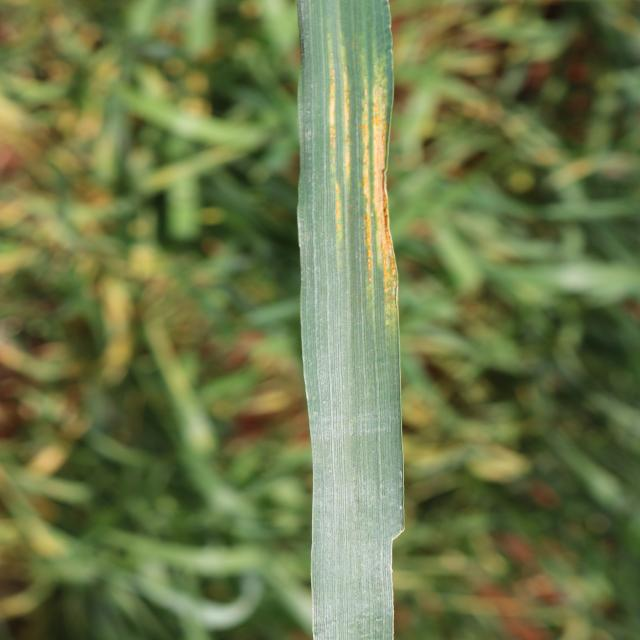Stripe Rust: (368, 68, 399, 315), (326, 63, 357, 244)
